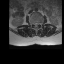CCS_normal: (35, 21, 36, 27)
LFS_stenosis: (38, 22, 40, 25)
LLS_normal: (37, 22, 38, 26)
RFS_stenosis: (32, 22, 34, 26)
RLS_normal: (34, 22, 35, 26)
